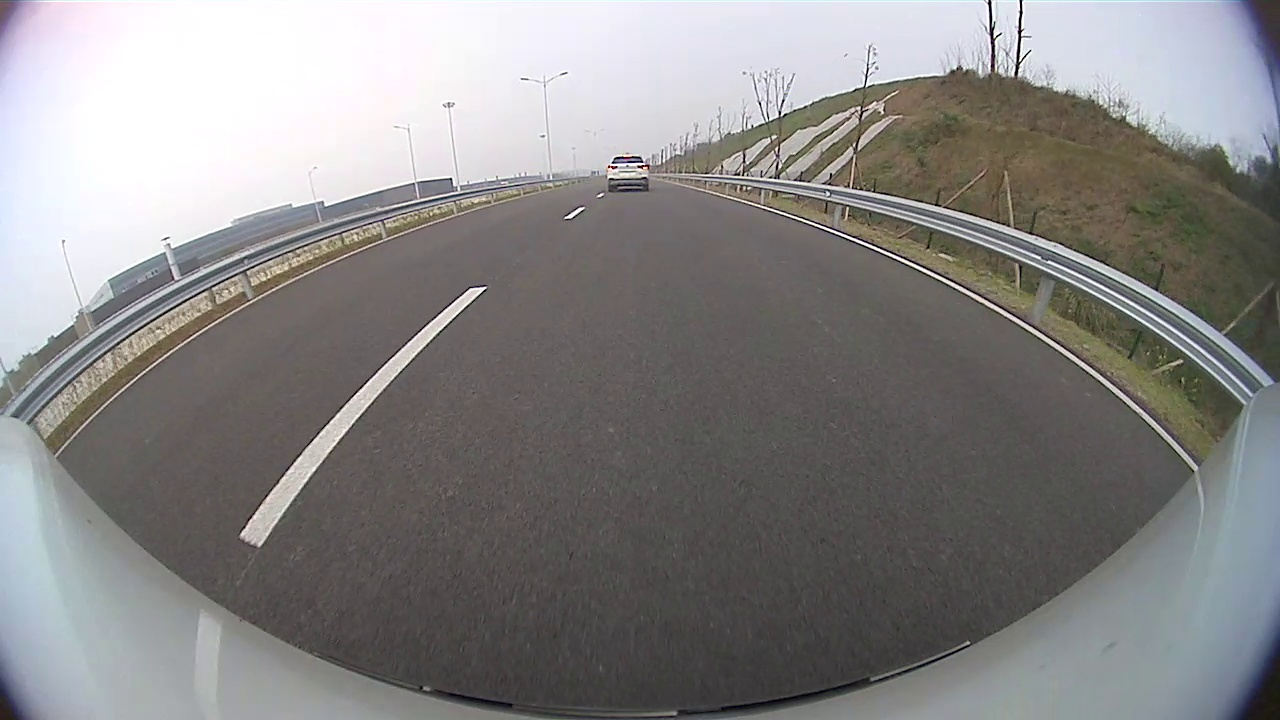car: (605, 154, 651, 194)
